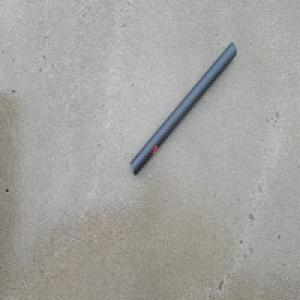LuggagePart: (129, 41, 236, 179)
